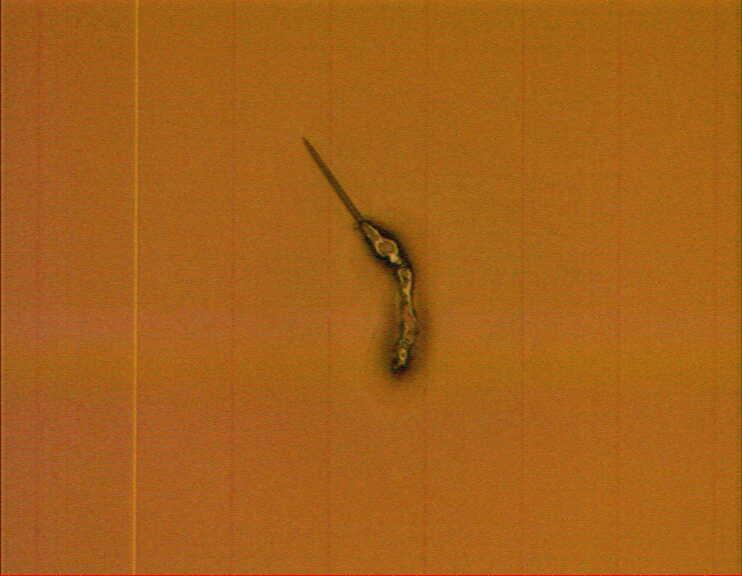PIQ PARTICLE: (299, 134, 438, 412)
